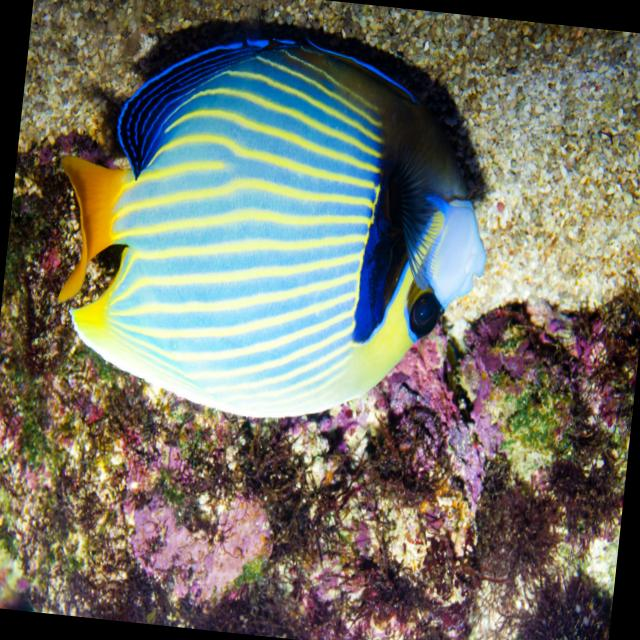AngelFish: (34, 9, 506, 440)
